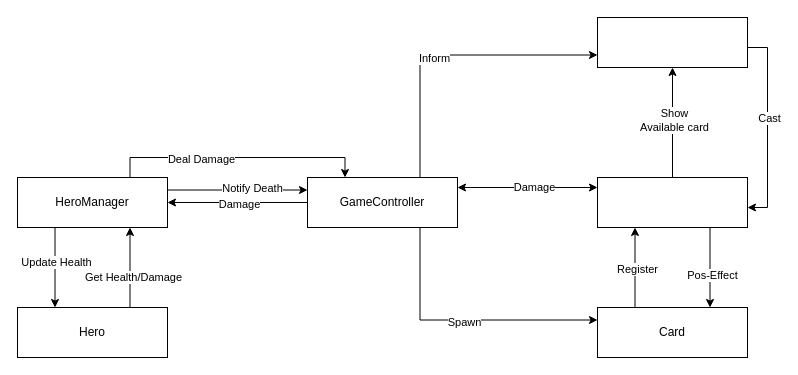
Image size: 798x375. Some labels were removed from this diagram. Each missing label, with the centre of its shape:
CardManager: the point at 672,202
Console: the point at 672,42
